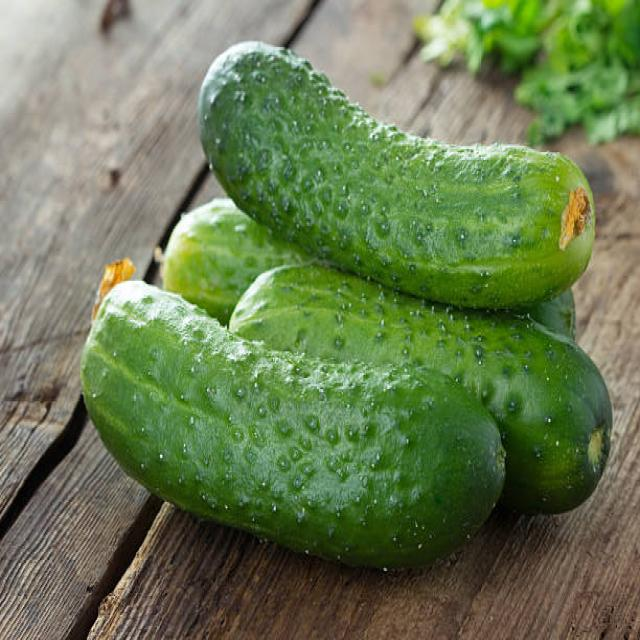cucumber: (82, 42, 614, 569)
